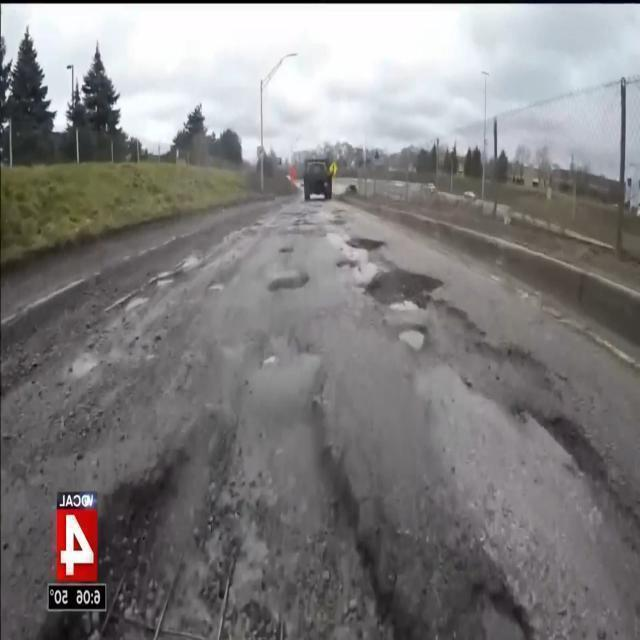Pothole: (544, 416, 601, 485), (369, 276, 433, 316), (399, 324, 424, 357)
